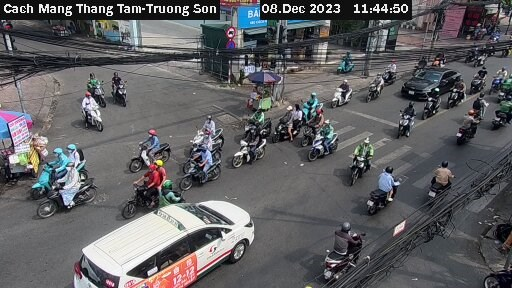car: (75, 200, 259, 288), (402, 62, 460, 101)
motorbike: (318, 220, 367, 274), (36, 180, 102, 216), (114, 164, 170, 203), (32, 152, 95, 186), (124, 130, 177, 167), (66, 93, 117, 131), (228, 132, 278, 169), (179, 151, 228, 188), (369, 175, 406, 217), (78, 69, 118, 102), (103, 72, 139, 107), (344, 145, 377, 182), (235, 109, 281, 135), (309, 122, 339, 161), (388, 106, 421, 141), (450, 109, 482, 144), (423, 166, 454, 201), (274, 105, 305, 140), (185, 118, 222, 147), (328, 79, 358, 111), (365, 70, 393, 104), (377, 59, 411, 87), (468, 65, 493, 98), (494, 95, 512, 133), (490, 62, 509, 93)
